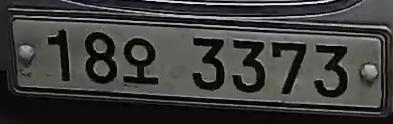1: (42, 26, 80, 85)
3: (310, 42, 355, 99), (188, 35, 230, 93), (229, 36, 268, 94)
7: (267, 38, 310, 98)
8: (80, 30, 122, 87)
오: (119, 33, 165, 88)
